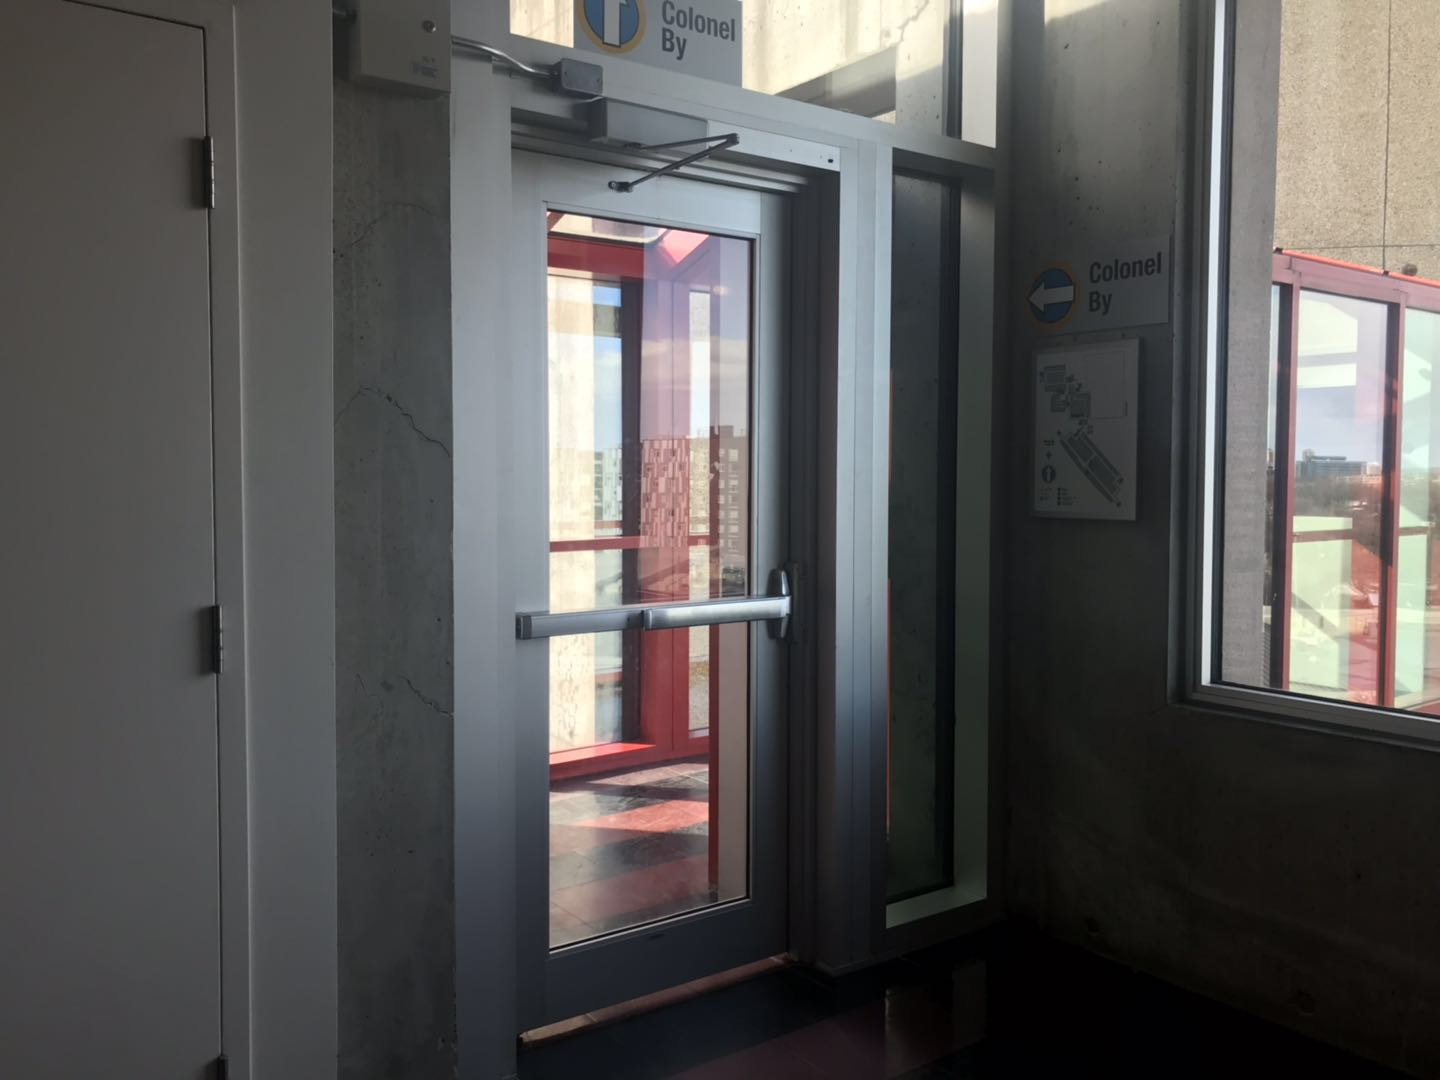door: (517, 123, 835, 1033)
sign: (1032, 341, 1141, 518), (1030, 239, 1167, 336), (575, 5, 740, 83)
